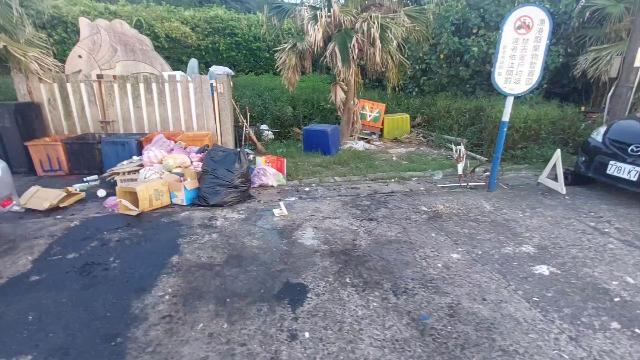pollute: (16, 130, 286, 218), (342, 96, 413, 149), (303, 122, 342, 155), (451, 142, 467, 178), (270, 200, 286, 215)
